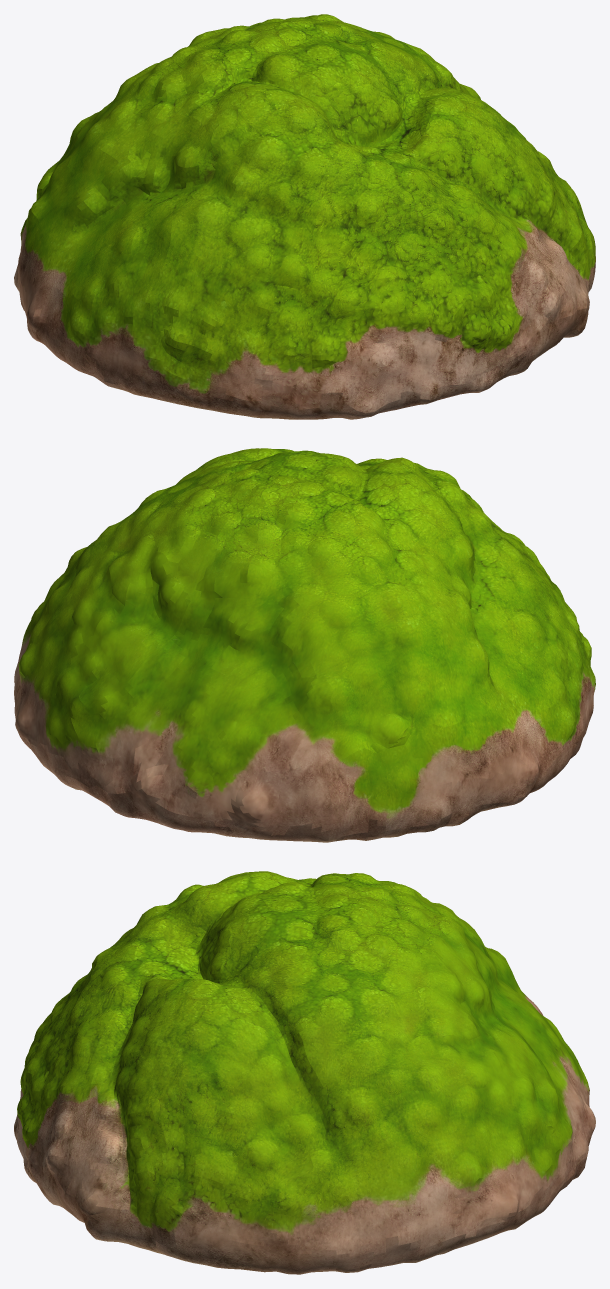
The model's file is raw_meshy_model.glb.
3 views of the same model, one above another, from view 1: azimuth 30°, elevation 25°; view 2: azimuth 150°, elevation 25°; view 3: azimuth 270°, elevation 25° (orthographic).
Bounding box in the file's own units: 1.89 × 0.9503 × 1.89.
Materials: 1 (1 with a texture image).
